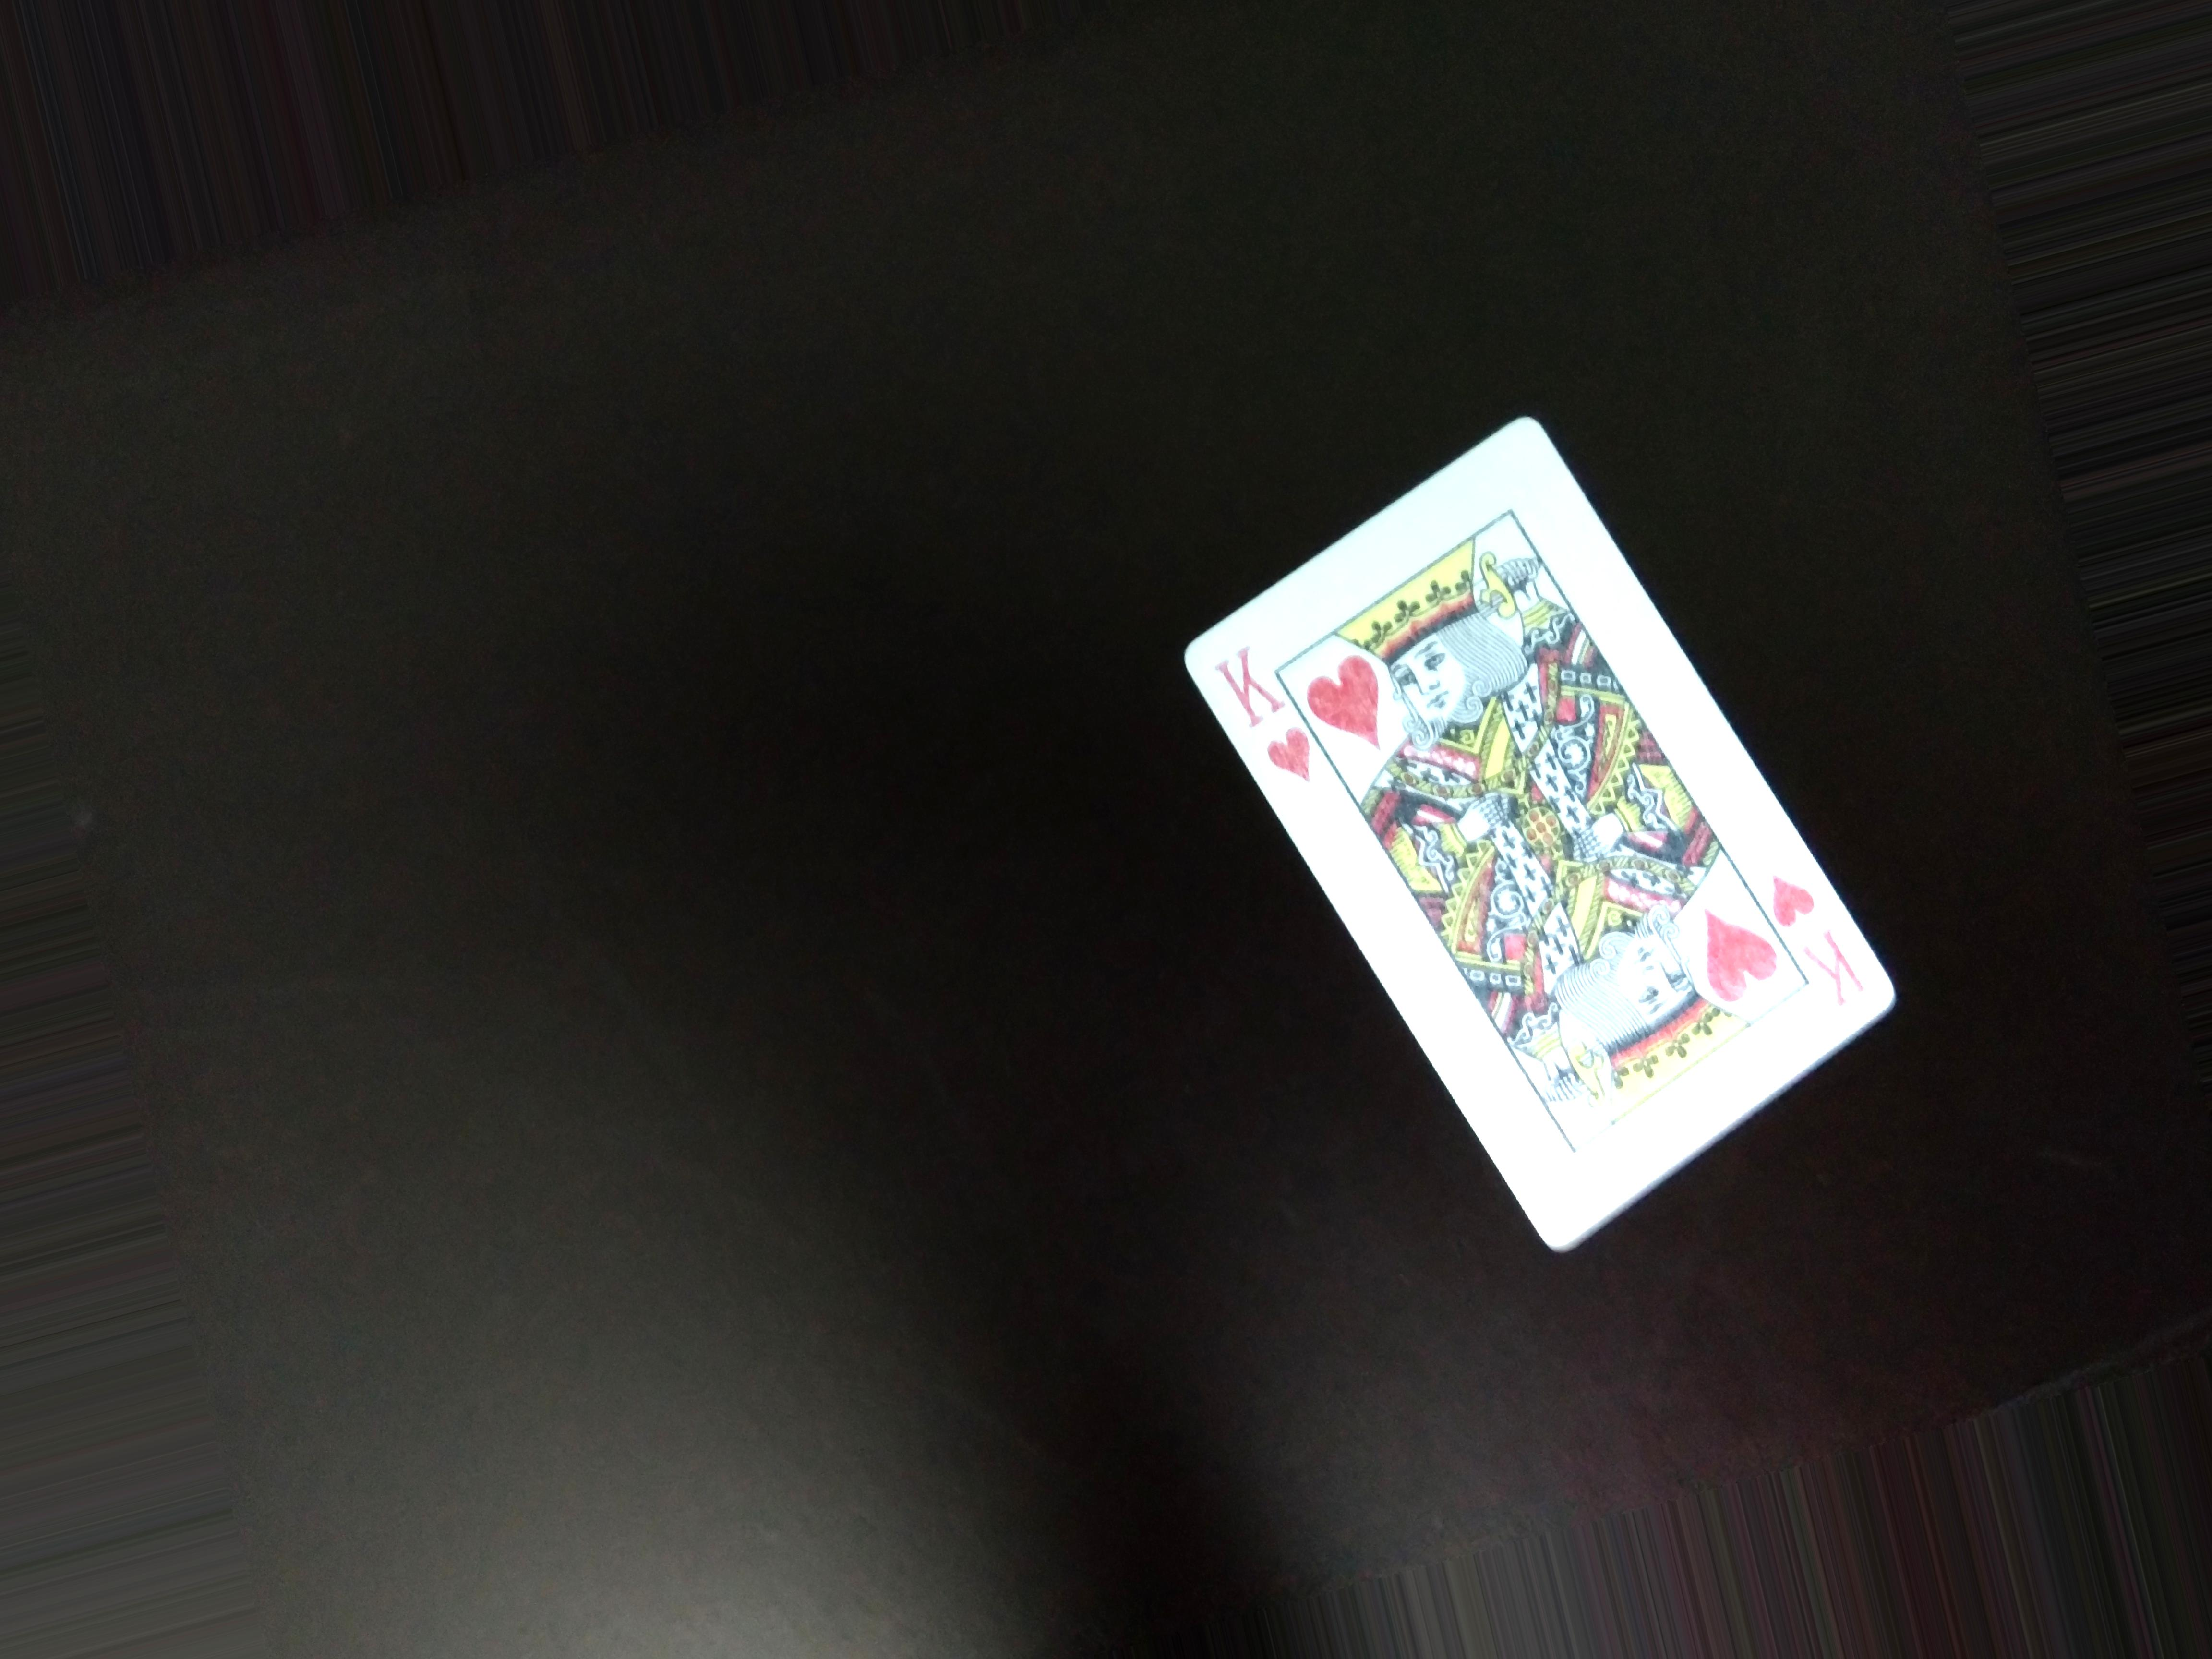KH: (1214, 634, 1312, 788)
